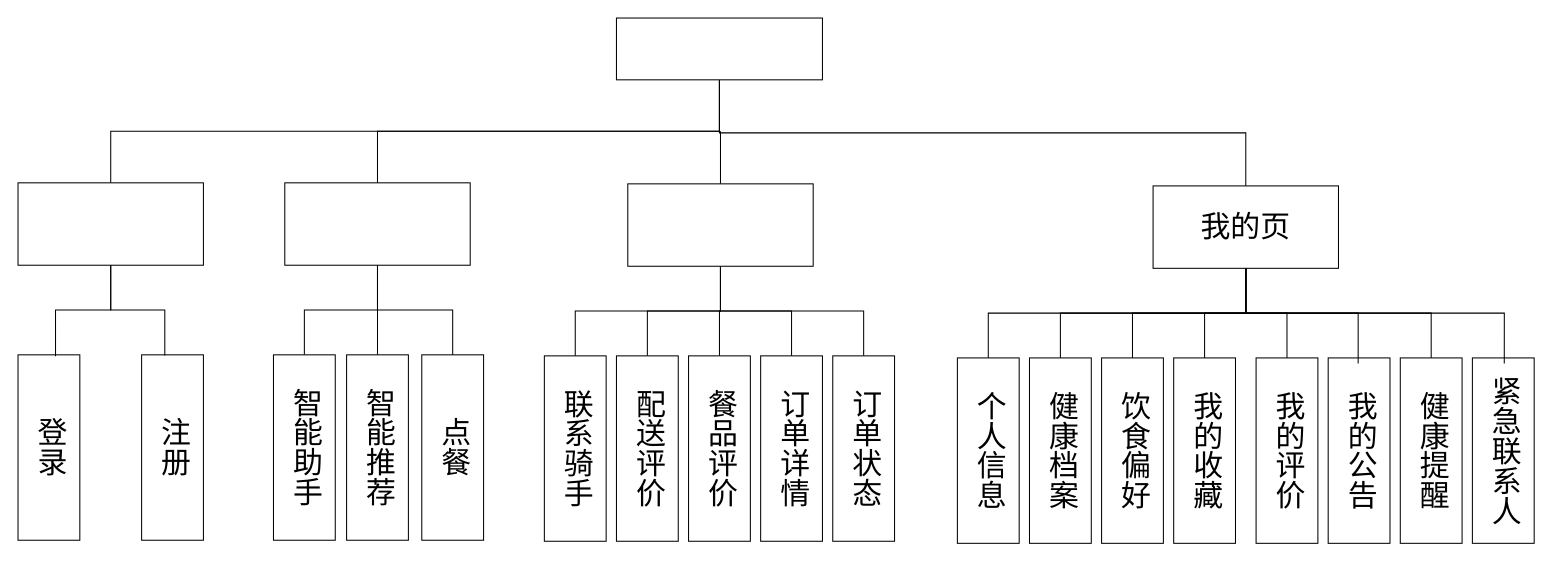
Image size: 1552x561. Some labels were removed from this diagram. The box of each missing label's shape, as (x1, y1, x2, y2) in pixels:
登录注册页: (17, 182, 203, 265)
老人端: (615, 17, 822, 80)
订单页: (627, 183, 813, 266)
首页: (284, 182, 470, 265)
